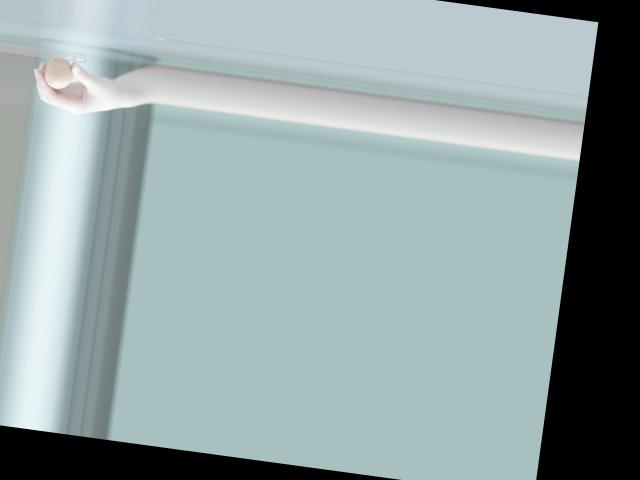egg: (41, 55, 75, 90)
